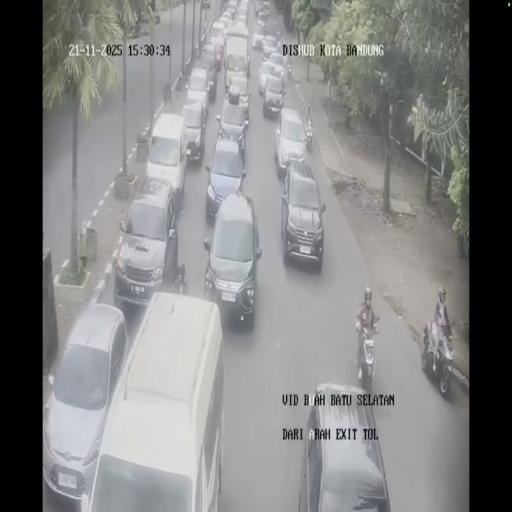car: (42, 301, 130, 505), (298, 384, 390, 511), (113, 177, 181, 314), (280, 159, 324, 268), (146, 112, 190, 202), (205, 132, 247, 220), (275, 107, 308, 179), (186, 66, 212, 115), (226, 72, 250, 124), (258, 60, 282, 100), (261, 34, 278, 58), (202, 42, 216, 68), (251, 29, 265, 49), (237, 5, 249, 27), (220, 11, 232, 30), (226, 0, 237, 16), (257, 10, 267, 26)
truck: (422, 318, 454, 398), (354, 321, 379, 394)
